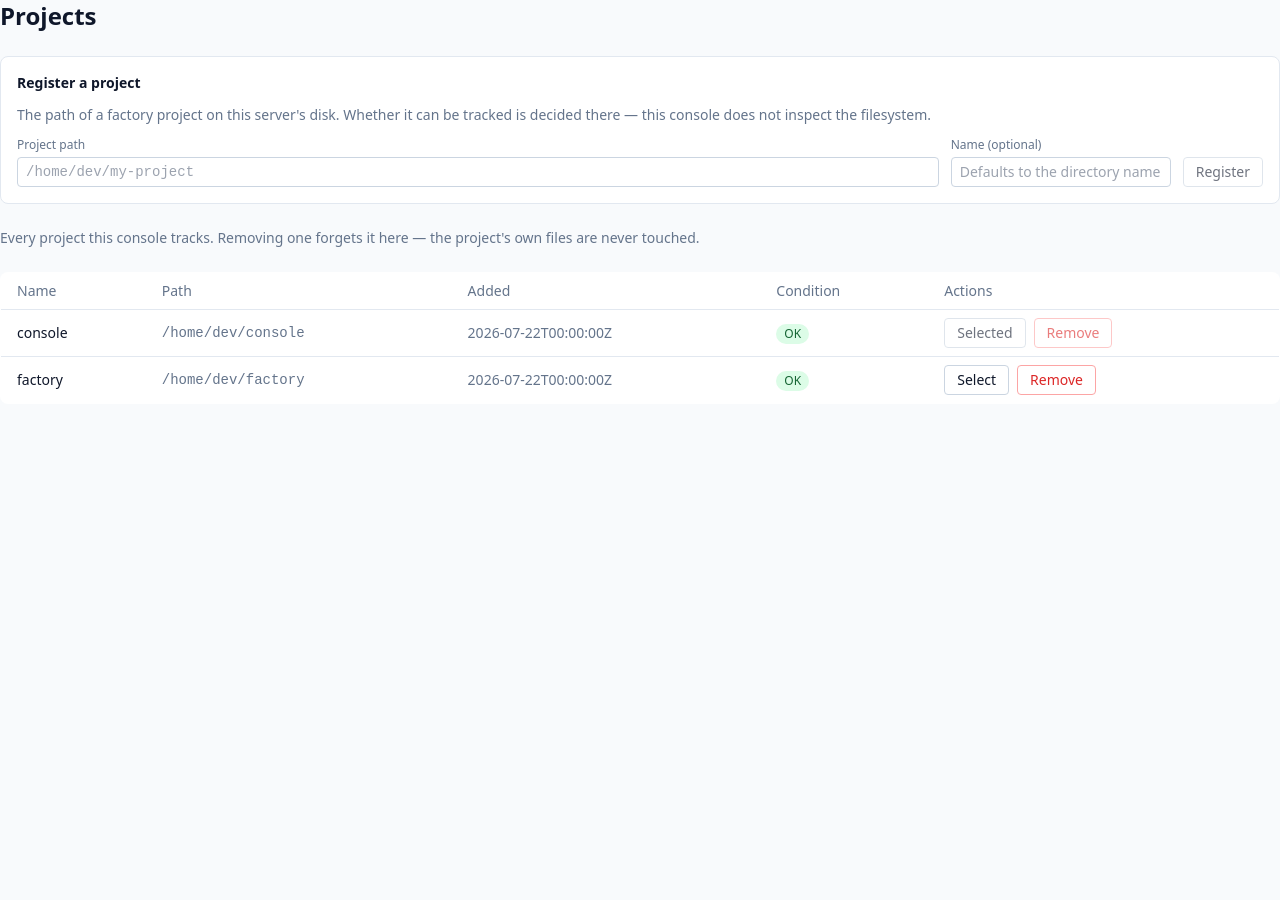
projects page › asks for confirmation before removing, and states that nothing on disk changes
Click the button "Remove" in the row of "/home/dev/factory" at (1057, 380), box 1017,365 -> 1096,395
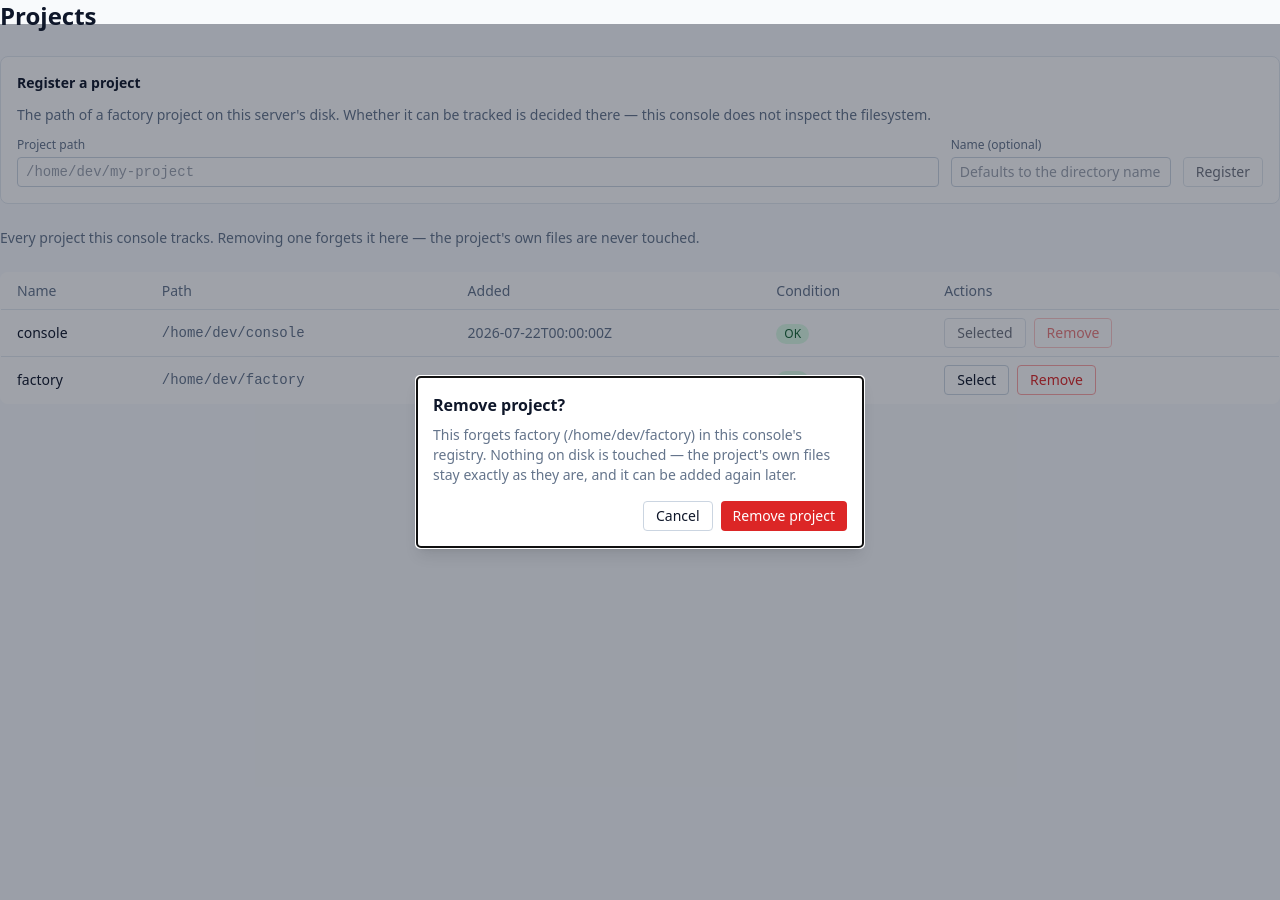
Check: the heading "Remove project?" is shown, box 433,394 -> 565,416
Check: the dialog shows "Nothing on disk is touched", box 433,425 -> 830,484
Check: the dialog shows "/home/dev/factory", box 433,425 -> 830,484
